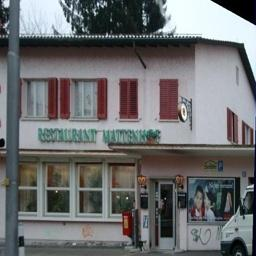building: (0, 20, 243, 245)
